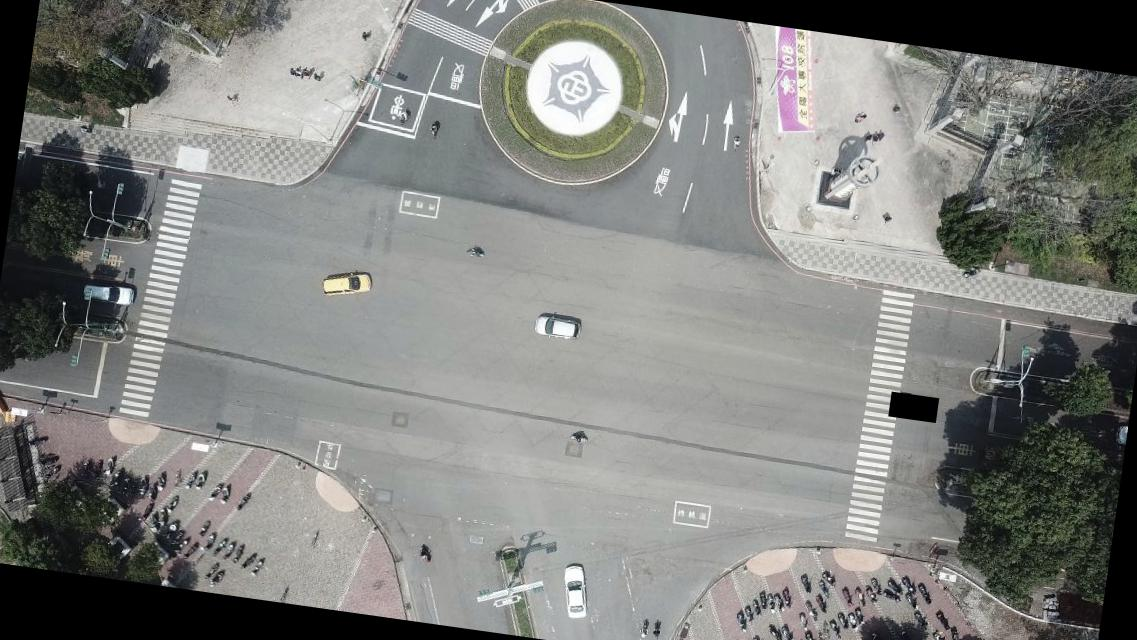vehicle: (557, 560, 596, 620), (320, 266, 374, 304), (532, 309, 584, 344), (81, 280, 137, 308)
